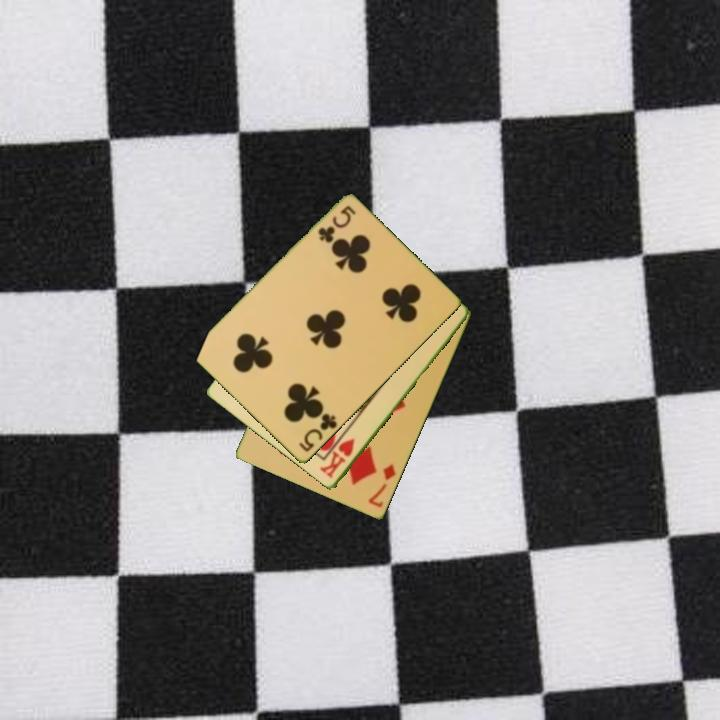5c: (295, 410, 340, 455), (314, 202, 359, 246)
7d: (365, 461, 399, 511)
Kh: (316, 435, 358, 482)
